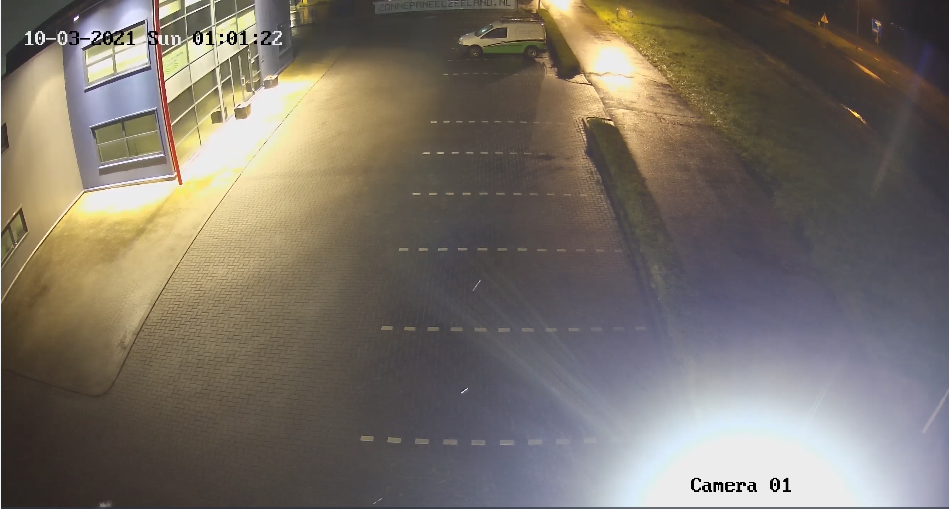werkbus: (456, 15, 548, 65)
